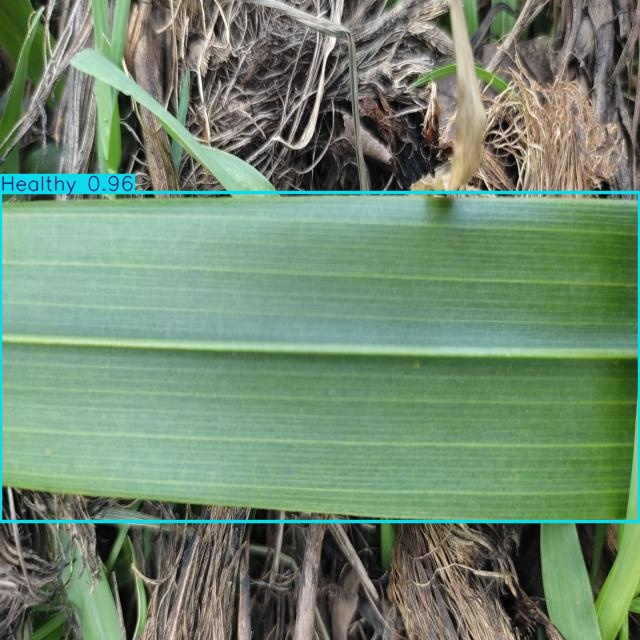Healthy: (0, 193, 640, 522)
